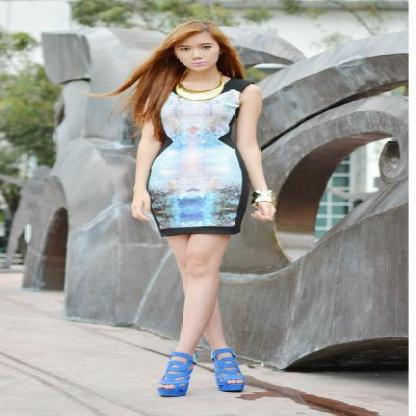dress: (148, 71, 259, 240)
shoe: (158, 341, 247, 397)
